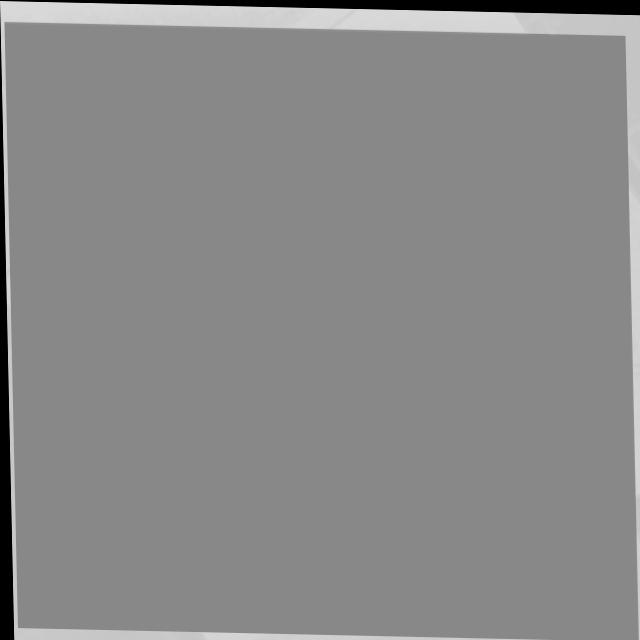qr_code: (4, 21, 636, 637)
